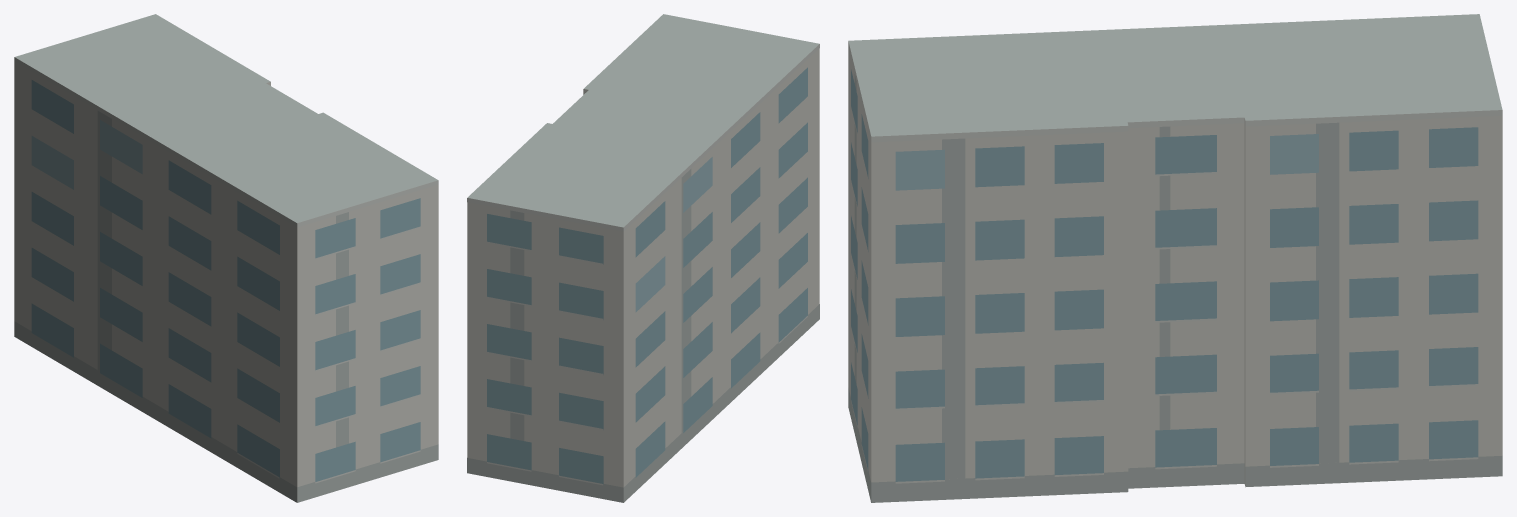
The model's file is survey-upis-32621006.glb.
3 renders of one model, left to right at view 1: azimuth 30°, elevation 25°; view 2: azimuth 150°, elevation 25°; view 3: azimuth 270°, elevation 25°, orthographic. The views are drawn at different scales.
Parts seen in each view (by area): view 1: survey-upis-32621006.tmp; view 2: survey-upis-32621006.tmp; view 3: survey-upis-32621006.tmp.
Part boxes in pixels (bbox=[...]): survey-upis-32621006.tmp: bbox=[14, 14, 438, 502]; survey-upis-32621006.tmp: bbox=[467, 14, 819, 502]; survey-upis-32621006.tmp: bbox=[848, 14, 1502, 502].
Bounding box in the file's own units: 10.92 × 15.2 × 24.61.
